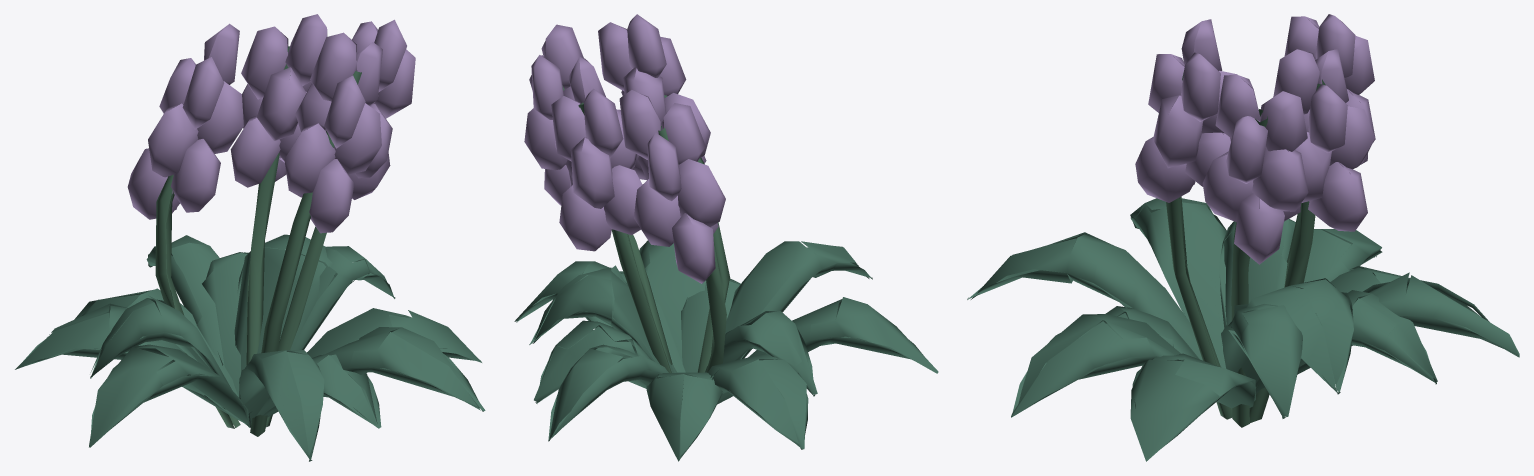
3 views of the same model, side by side, from view 1: azimuth 30°, elevation 25°; view 2: azimuth 150°, elevation 25°; view 3: azimuth 270°, elevation 25° (orthographic). The views are drawn at different scales.
Parts seen in each view (by area): view 1: Lavender_tall; view 2: Lavender_tall; view 3: Lavender_tall.
Boxes of the visible parts, bbox=[...] form: Lavender_tall: bbox=[15, 14, 485, 461]; Lavender_tall: bbox=[514, 14, 938, 461]; Lavender_tall: bbox=[967, 14, 1519, 461].
Bounding box in the file's own units: 0.844 × 0.7973 × 0.9134.
Materials: 1 (1 with a texture image).
